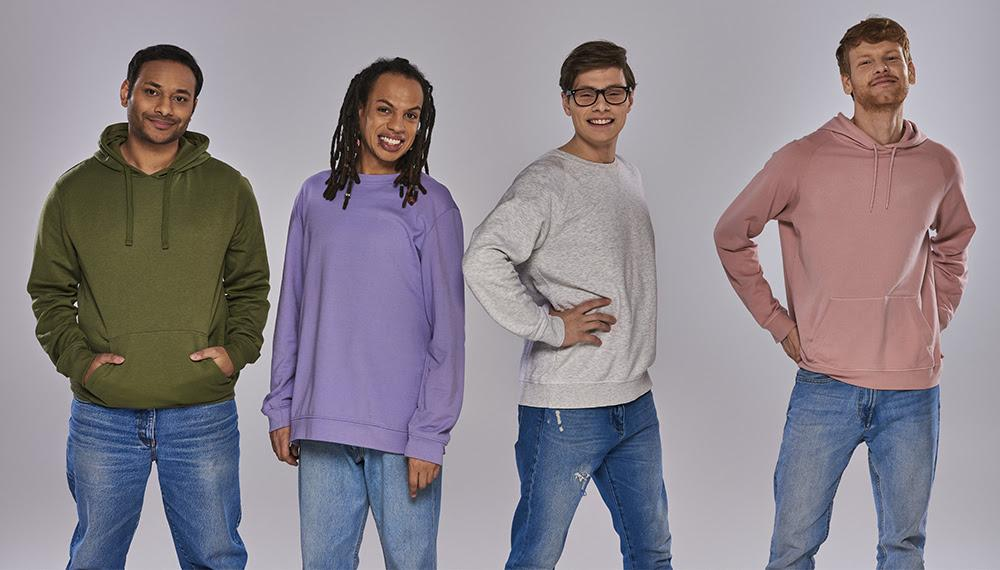sweater: (712, 112, 978, 390), (25, 122, 273, 407), (261, 164, 468, 465), (460, 146, 662, 411)
trousers: (763, 367, 946, 570), (63, 396, 251, 570), (504, 385, 675, 570), (297, 439, 446, 570)
